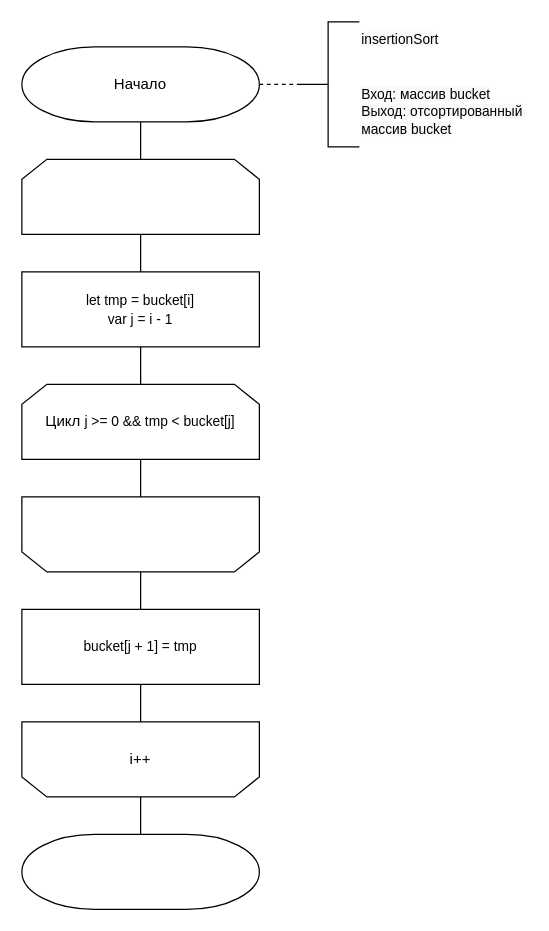
The diagram is 549 pixels wide and 931 high, and some of its shapes have lost their labels. The shapes that lost their labels are listed below. From the top down, each one's box as (x1, y1, x2, y2) in pixels, then its label:
(21, 158, 259, 234): Цикл i = 0; i <= bucket.count
(21, 496, 259, 572): bucket[j + 1 ] = bucket[j] j = j - 1
(21, 833, 259, 909): Конец
